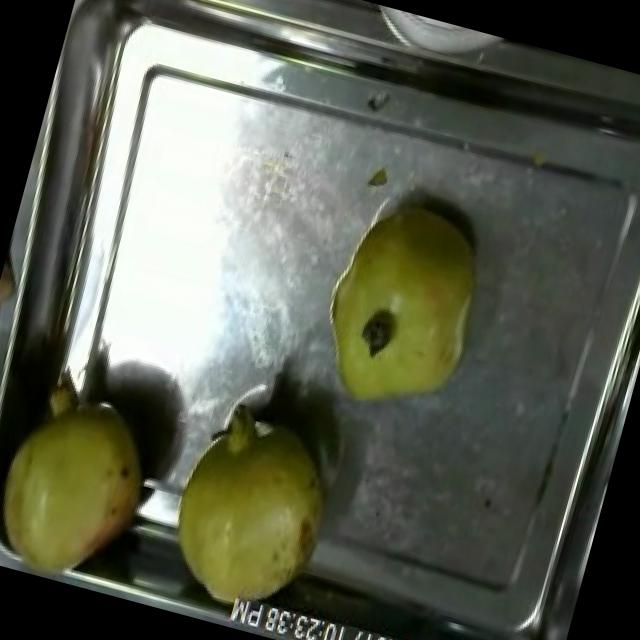fruit: (141, 382, 360, 636), (296, 178, 510, 436), (0, 357, 180, 599), (0, 239, 31, 334)
